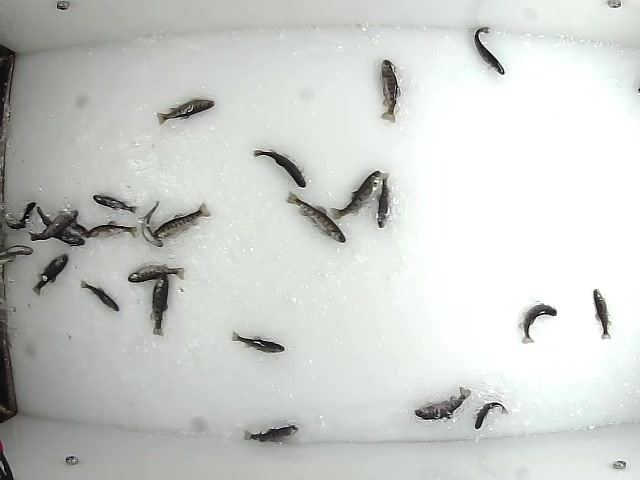fish: (283, 193, 346, 246), (328, 167, 384, 221), (150, 197, 211, 240), (412, 384, 473, 423), (253, 148, 304, 187), (375, 55, 403, 124), (29, 251, 70, 298), (27, 207, 78, 244), (33, 205, 81, 244), (154, 97, 216, 127), (518, 302, 560, 346), (147, 268, 172, 338), (74, 278, 121, 314), (473, 24, 506, 75), (228, 329, 287, 356), (126, 262, 188, 286), (242, 419, 299, 444), (1, 198, 38, 231), (373, 167, 393, 228), (592, 289, 615, 342), (84, 219, 139, 241), (138, 196, 162, 246), (90, 192, 138, 217), (54, 206, 90, 239), (471, 400, 509, 431)
